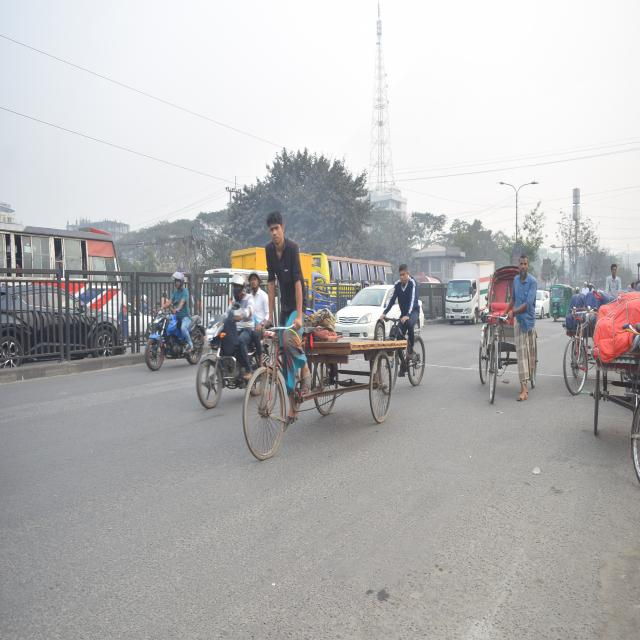bus: (3, 220, 139, 301), (230, 252, 337, 290), (329, 252, 397, 292)
car: (0, 269, 124, 369), (334, 280, 406, 344)
motorbike: (199, 266, 269, 410), (148, 279, 196, 367)
pickup-van: (446, 252, 502, 325)
